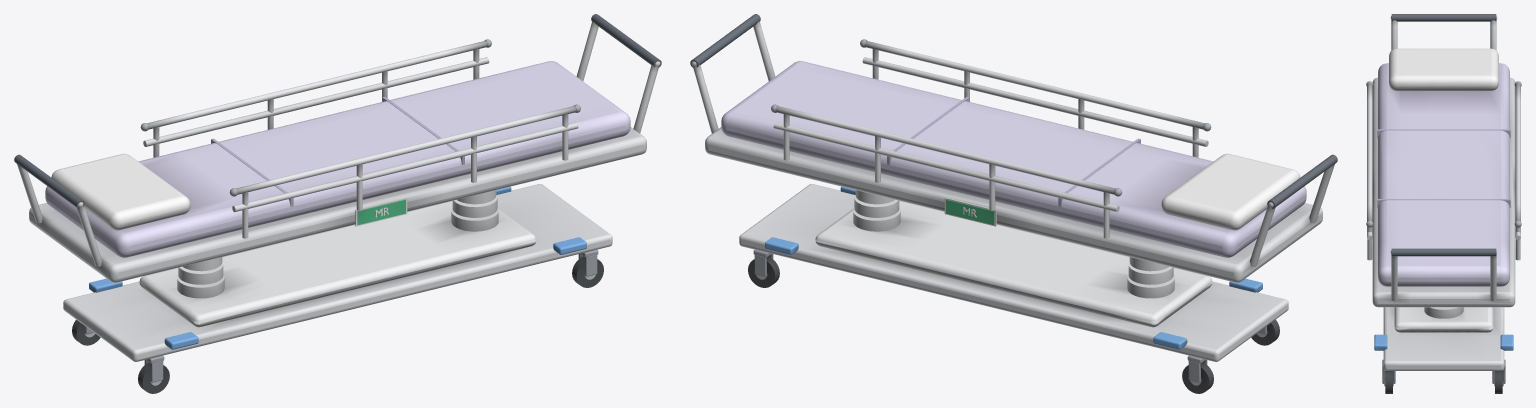
The model's file is mr_stretcher.glb.
3 renders of one model, left to right at view 1: azimuth 30°, elevation 25°; view 2: azimuth 150°, elevation 25°; view 3: azimuth 270°, elevation 25°, orthographic. The views are drawn at different scales.
Visible parts, largest first — view 1: mattress, base_cover, base_frame, deck, pillow, rail_-13.5_29.2, rail_-13.5_32, rail_13.5_29.2, rail_13.5_32, handle_bar_-47, handle_bar_47, bellow_-24_0 (+7 smaller); view 2: mattress, base_cover, base_frame, deck, pillow, rail_13.5_29.2, rail_13.5_32, rail_-13.5_29.2, rail_-13.5_32, handle_bar_-47, handle_bar_47, bellow_-24_0 (+7 smaller); view 3: mattress, deck, base_frame, pillow, base_cover, handle_bar_47, handle_bar_-47, rail_-13.5_32, rail_13.5_32, bellow_24_0, seam_-15, handle_up_47_-9 (+10 smaller).
Boxes of the visible parts, left/top/right/bottom form: mattress: left=45, top=61, right=630, bottom=257; base_cover: left=139, top=200, right=536, bottom=327; base_frame: left=63, top=184, right=612, bottom=361; deck: left=29, top=127, right=646, bottom=282; pillow: left=51, top=153, right=190, bottom=230; rail_-13.5_29.2: left=143, top=57, right=489, bottom=146; rail_-13.5_32: left=147, top=41, right=486, bottom=129; rail_13.5_29.2: left=232, top=122, right=578, bottom=212; rail_13.5_32: left=236, top=106, right=575, bottom=194; handle_bar_-47: left=14, top=154, right=84, bottom=208; handle_bar_47: left=591, top=14, right=661, bottom=67; bellow_-24_0: left=177, top=275, right=224, bottom=298; mattress: left=721, top=61, right=1306, bottom=257; base_cover: left=815, top=200, right=1212, bottom=327; base_frame: left=739, top=184, right=1288, bottom=361; deck: left=705, top=127, right=1322, bottom=282; pillow: left=1161, top=153, right=1300, bottom=230; rail_13.5_29.2: left=862, top=57, right=1208, bottom=146; rail_13.5_32: left=865, top=41, right=1204, bottom=129; rail_-13.5_29.2: left=773, top=122, right=1119, bottom=212; rail_-13.5_32: left=776, top=106, right=1115, bottom=194; handle_bar_-47: left=1267, top=154, right=1337, bottom=208; handle_bar_47: left=690, top=14, right=760, bottom=67; bellow_-24_0: left=1127, top=275, right=1174, bottom=298; mattress: left=1378, top=63, right=1509, bottom=286; deck: left=1372, top=77, right=1515, bottom=307; base_frame: left=1383, top=307, right=1504, bottom=370; pillow: left=1389, top=48, right=1498, bottom=90; base_cover: left=1394, top=307, right=1493, bottom=332; handle_bar_47: left=1391, top=248, right=1496, bottom=256; handle_bar_-47: left=1391, top=14, right=1496, bottom=21; rail_-13.5_32: left=1515, top=83, right=1520, bottom=221; rail_13.5_32: left=1367, top=83, right=1372, bottom=221; bellow_24_0: left=1424, top=307, right=1463, bottom=318; seam_-15: left=1377, top=129, right=1510, bottom=138; handle_up_47_-9: left=1490, top=255, right=1496, bottom=301.
Bounding box in the file's own units: 102 × 34.7 × 28.3.
